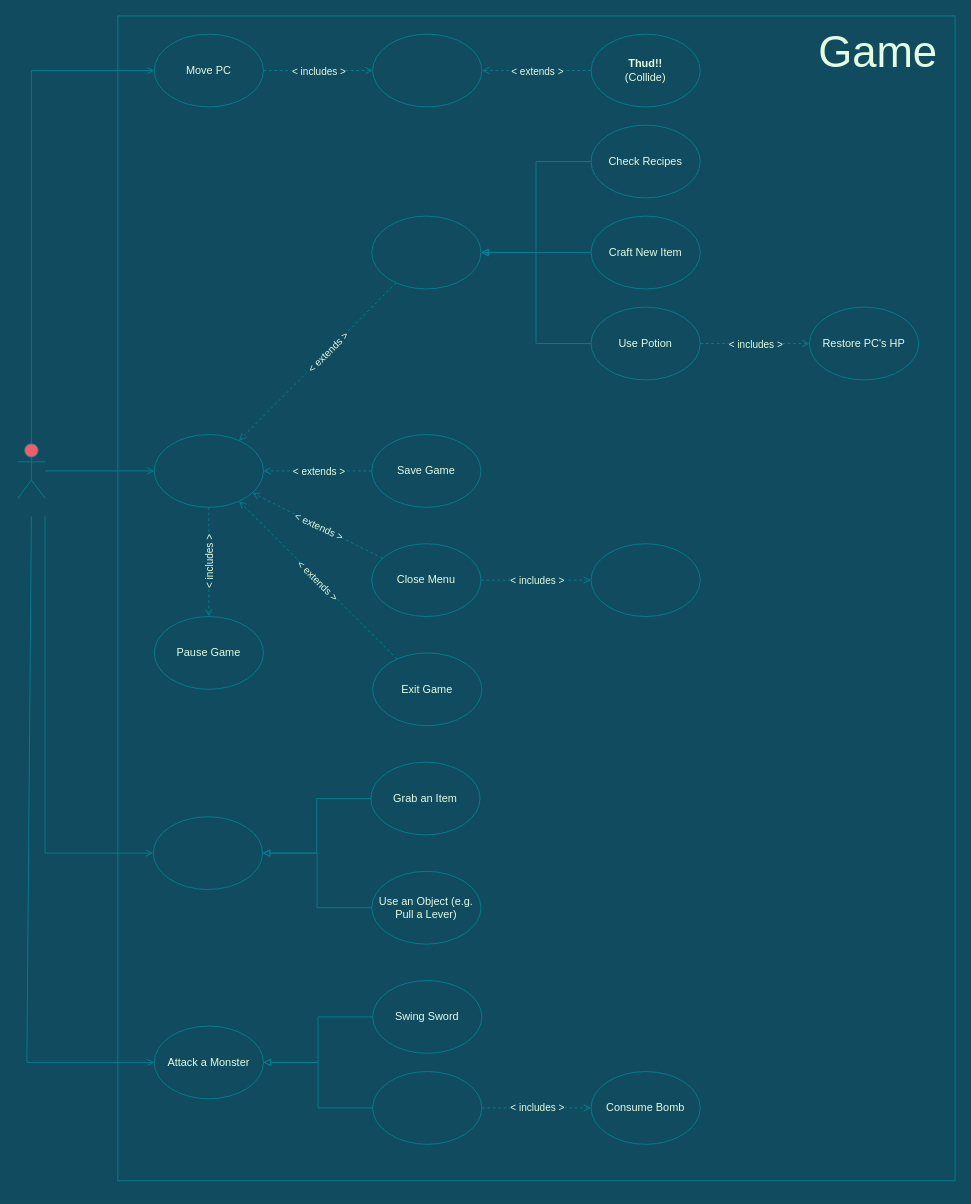
The diagram is 971 pixels wide and 1204 high, and some of its shapes have lost their labels. The box of each missing label's shape, as (x1, y1, x2, y2) in pixels:
Check if It’s a Valid Move: (372, 33, 482, 107)
Interact With an Object: (152, 816, 263, 890)
Manage Inventory: (371, 215, 481, 289)
Open Menu: (153, 434, 263, 507)
Player: (17, 443, 45, 498)
Resume Game: (590, 543, 700, 617)
Throw Bomb: (372, 1071, 482, 1144)
